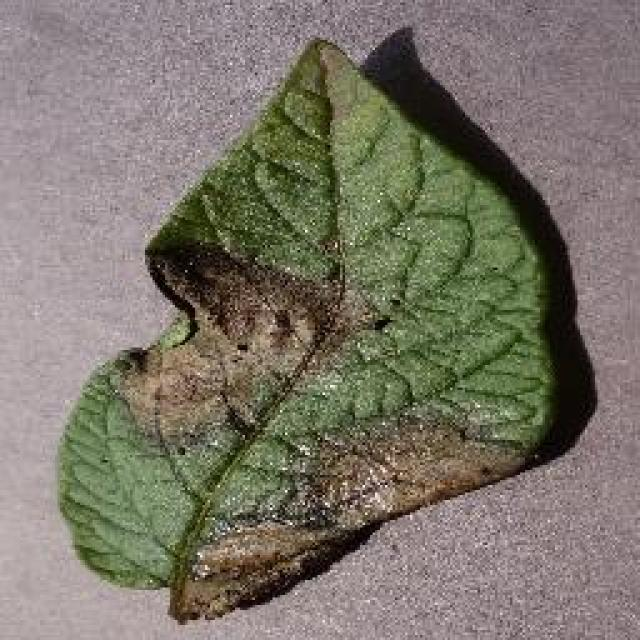late_blight: (53, 23, 585, 625)
